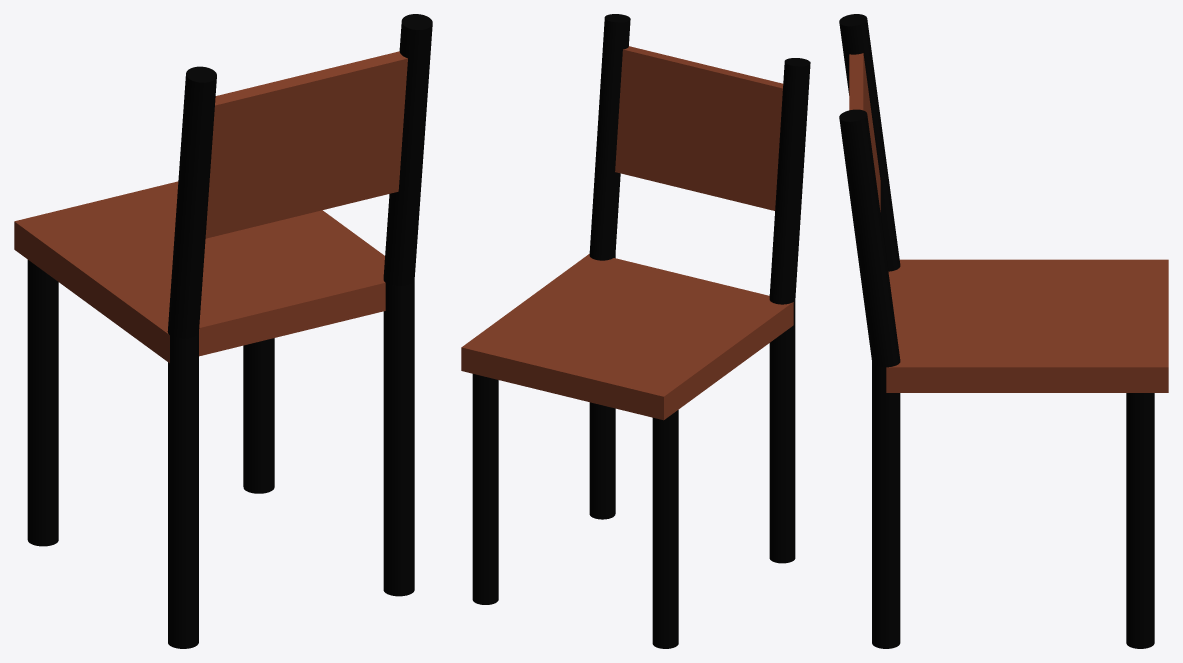
Rendered from Chair.fbx.
The picture shows the model from 3 angles, left to right: view 1: azimuth 30°, elevation 25°; view 2: azimuth 150°, elevation 25°; view 3: azimuth 270°, elevation 25°; orthographic projection. The views are drawn at different scales.
Parts seen in each view (by area): view 1: Seat, Legs, Back, BackSticks; view 2: Seat, Legs, Back, BackSticks; view 3: Seat, Legs, BackSticks, Back.
Boxes of the visible parts, x1,y1,x2,y2 form: Seat: (14,181,385,363); Legs: (27,260,414,648); Back: (205,51,407,238); BackSticks: (167,14,432,338); Seat: (461,254,793,420); Legs: (472,255,795,648); Back: (615,46,783,210); BackSticks: (589,14,810,304); Seat: (886,259,1168,392); Legs: (872,362,1154,648); BackSticks: (839,14,900,367); Back: (849,53,880,211).
Size of the model in its own units: 90 by 207 by 117.
